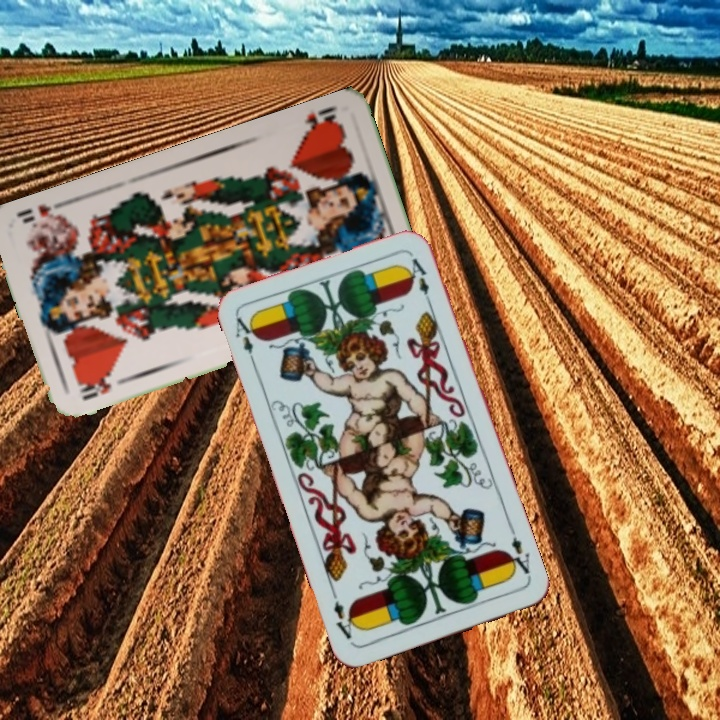EA: (501, 524, 534, 582), (231, 313, 261, 369)
HO: (296, 107, 345, 139), (75, 371, 114, 404)
